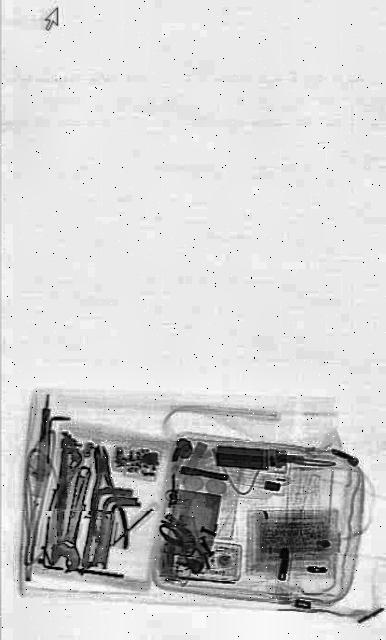Pliers: (84, 440, 130, 554)
Wrench: (49, 457, 101, 579)
